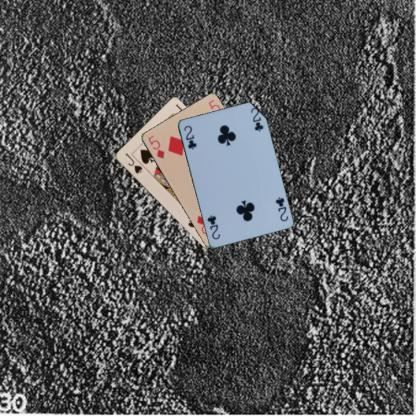2c: (180, 122, 198, 151), (272, 194, 290, 223)
5d: (145, 133, 166, 160)
Js: (122, 150, 144, 175)
